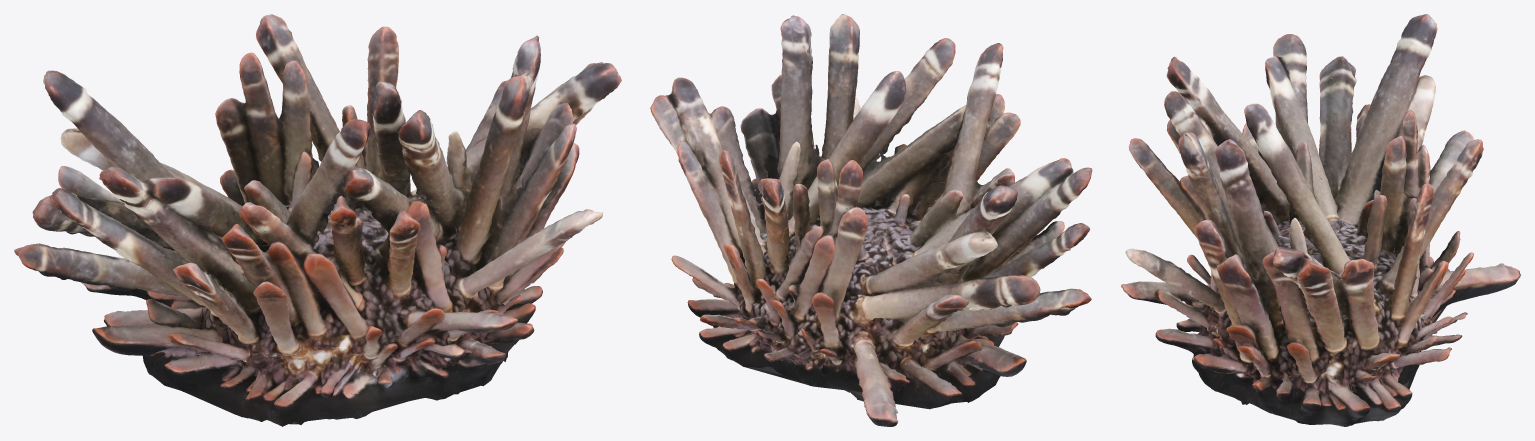
File: coral1.glb
The picture shows the model from 3 angles, left to right: view 1: azimuth 30°, elevation 25°; view 2: azimuth 150°, elevation 25°; view 3: azimuth 270°, elevation 25°; orthographic projection. The views are drawn at different scales.
Visible parts, largest first — view 1: Object_3, Object_2; view 2: Object_3, Object_2; view 3: Object_2, Object_3.
Boxes of the visible parts, left/top/right/bottom form: Object_3: left=14, top=14, right=416, bottom=424; Object_2: left=104, top=26, right=621, bottom=426; Object_3: left=700, top=43, right=1092, bottom=426; Object_2: left=650, top=14, right=1066, bottom=409; Object_2: left=1121, top=91, right=1486, bottom=426; Object_3: left=1130, top=14, right=1520, bottom=366.
Bounding box in the file's own units: 1.66 × 0.972 × 1.24.
Materials: 1 (1 with a texture image).
